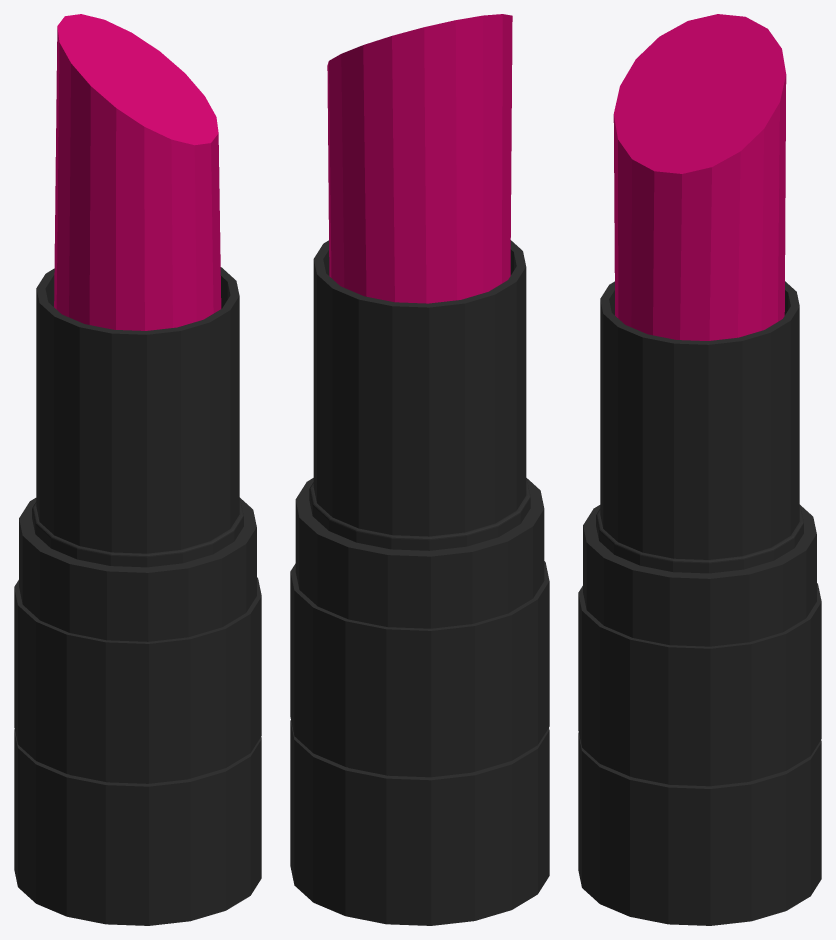
File: c7660cd9-aaa8-44e5-ab1b-95a8f1db0b51.glb
3 views of the same model, side by side, from view 1: azimuth 30°, elevation 25°; view 2: azimuth 150°, elevation 25°; view 3: azimuth 270°, elevation 25° (orthographic). The views are drawn at different scales.
Visible parts, largest first — view 1: Cylinder001; view 2: Cylinder001; view 3: Cylinder001.
Boxes of the visible parts, x1,y1,x2,y2 form: Cylinder001: [14, 14, 261, 925]; Cylinder001: [290, 14, 549, 925]; Cylinder001: [578, 14, 821, 925].
Bounding box in the file's own units: 108417 × 407966 × 108417.
